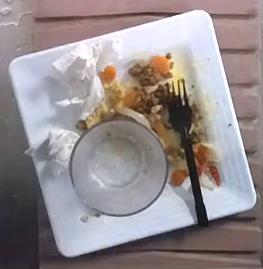beans: (128, 55, 173, 86)
carrots: (86, 65, 161, 130)
